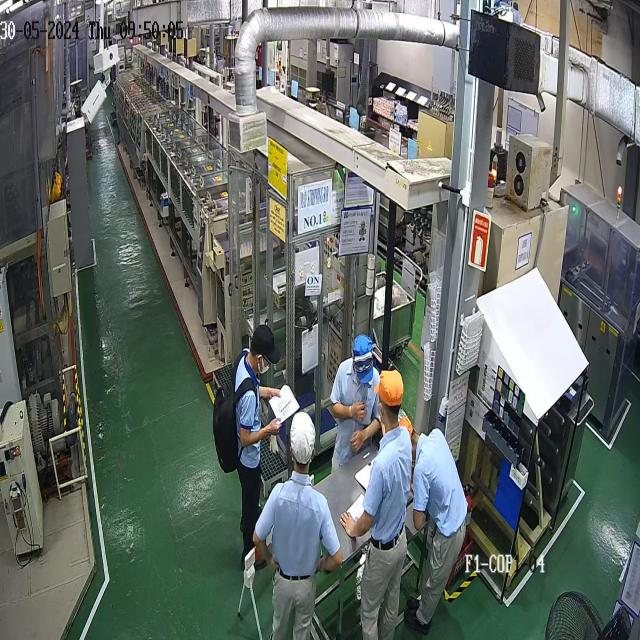Person: (252, 411, 343, 639), (340, 368, 412, 638), (397, 409, 468, 635), (231, 324, 282, 572), (329, 334, 382, 475)
